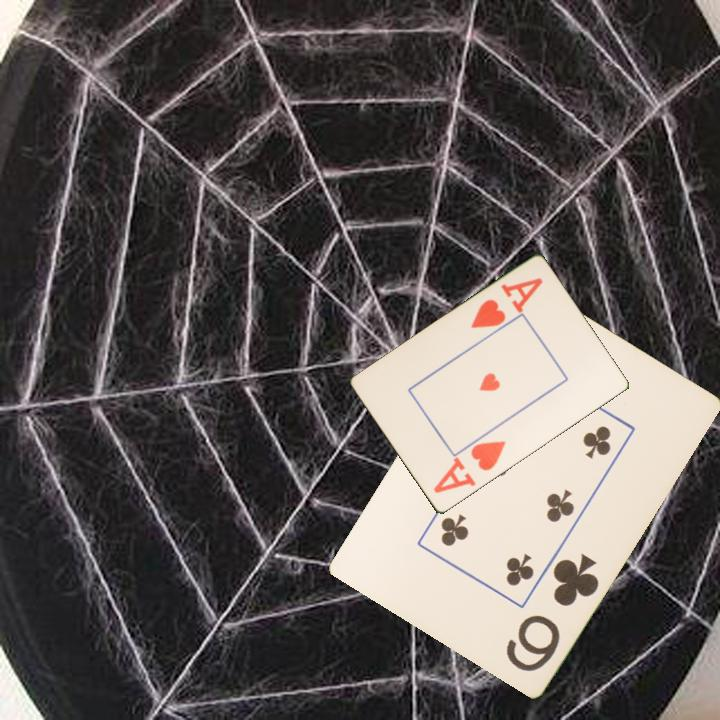6c: (502, 549, 602, 674)
Ah: (430, 437, 509, 497), (467, 274, 546, 332)
